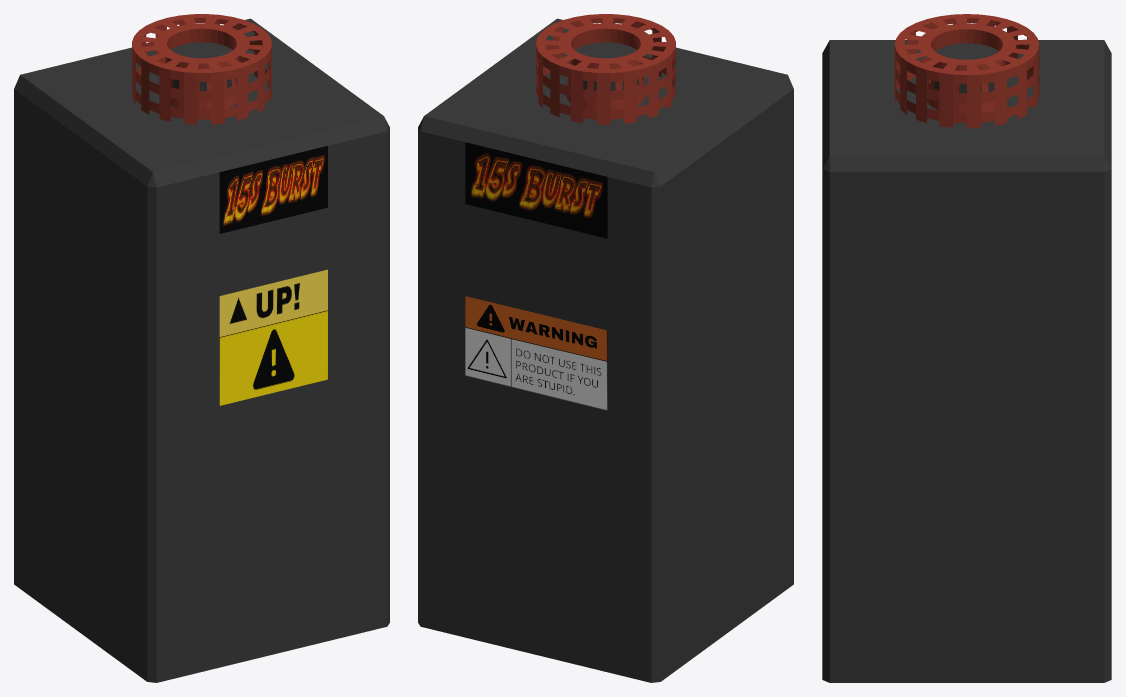
The model's file is 15sBurstV2.fbx.
3 views of the same model, side by side, from view 1: azimuth 30°, elevation 25°; view 2: azimuth 150°, elevation 25°; view 3: azimuth 270°, elevation 25° (orthographic). The views are drawn at different scales.
Visible parts, largest first — view 1: Cube, Cylinder, Cylinder.001; view 2: Cube, Cylinder, Cylinder.001; view 3: Cube, Cylinder, Cylinder.001.
Boxes of the visible parts, x1,y1,x2,y2 form: Cube: (14, 18, 389, 682); Cylinder: (132, 14, 271, 124); Cylinder.001: (171, 42, 236, 90); Cube: (418, 18, 793, 682); Cylinder: (536, 14, 675, 124); Cylinder.001: (575, 42, 640, 90); Cube: (822, 40, 1111, 682); Cylinder: (894, 14, 1039, 128); Cylinder.001: (934, 43, 998, 93).
Bounding box in the file's own units: 40 × 88.16 × 40.
